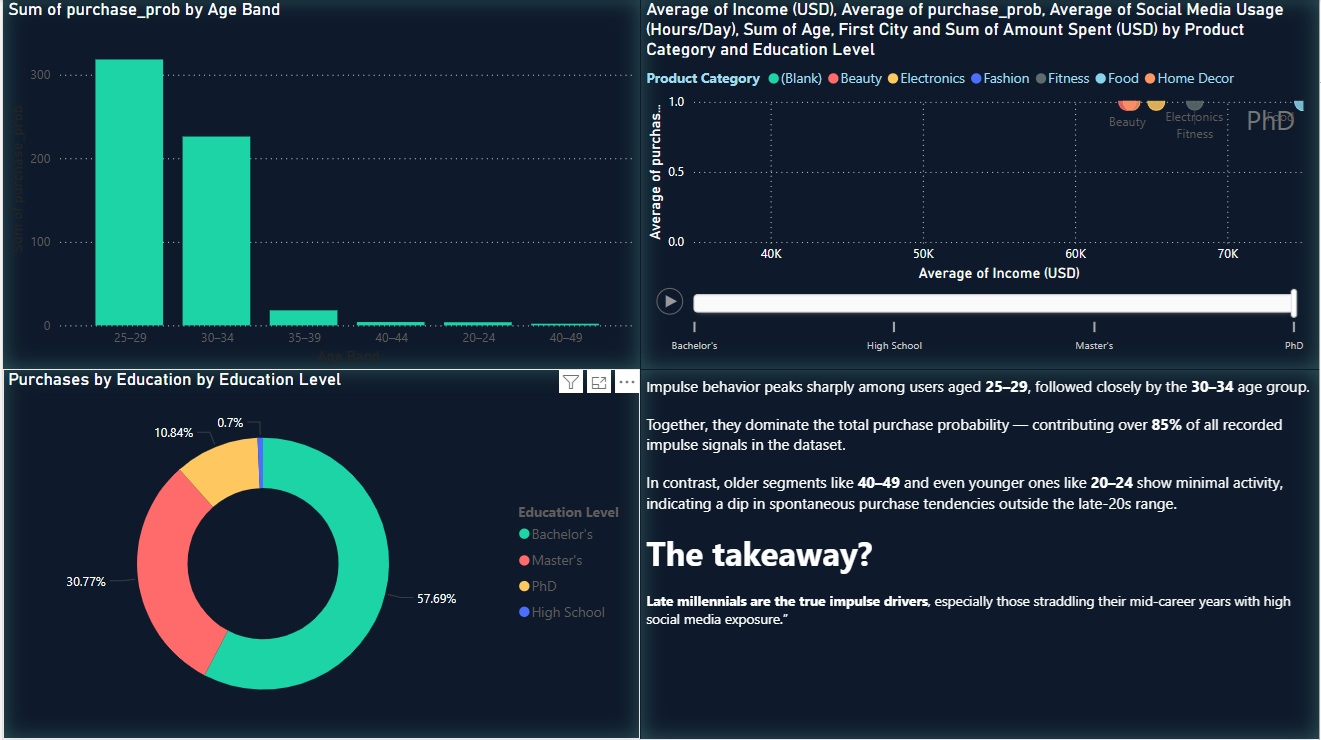

The page's visual inventory and layout, read from the dashboard file:
{"tool":"powerbi","page":{"name":"Generation Impulse","canvas":[1280,720],"ordinal":1},"visuals":[{"type":"clusteredColumnChart","fields":{"Category":["Row_Level.Age Band"],"Y":["Sum(Row_Level.purchase_prob)"]},"box":[0,0,620.5,360.5],"z":0},{"type":"scatterChart","fields":{"X":["Avg(Row_Level.Income (USD))"],"Y":["Avg(Row_Level.purchase_prob)"],"Size":["Avg(Row_Level.Social Media Usage (Hours/Day))"],"Play":["Row_Level.Education Level"],"Series":["Row_Level.Product Category"]},"box":[620.7,0,659.3,359.7],"z":1000},{"type":"donutChart","fields":{"Category":["Row_Level.Education Level"],"Y":["City_Summary.Purchases by Education"]},"box":[0,359.7,619.8,359.7],"z":2000},{"type":"textbox","box":[620.7,360.6,659.3,358.8],"z":3000}]}

Visuals, with their boxes in screenshot pixels (x1, y1, x2, y2), scaled from the page's 1280x720 canvas onto the 1321x740 screenshot:
clusteredColumnChart - Row_Level.Age Band x Sum(Row_Level.purchase_prob): [0,0,640,371]
scatterChart - Avg(Row_Level.Income (USD)) x Avg(Row_Level.purchase_prob): [641,0,1320,370]
donutChart - Row_Level.Education Level x City_Summary.Purchases by Education: [0,370,640,739]
textbox: [641,371,1320,739]
